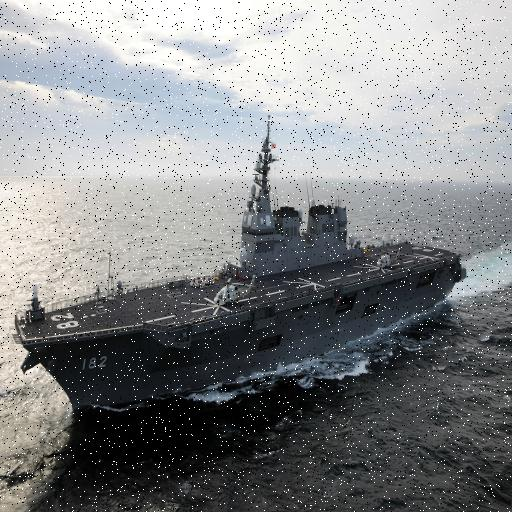Portanaves: (13, 111, 471, 430)
